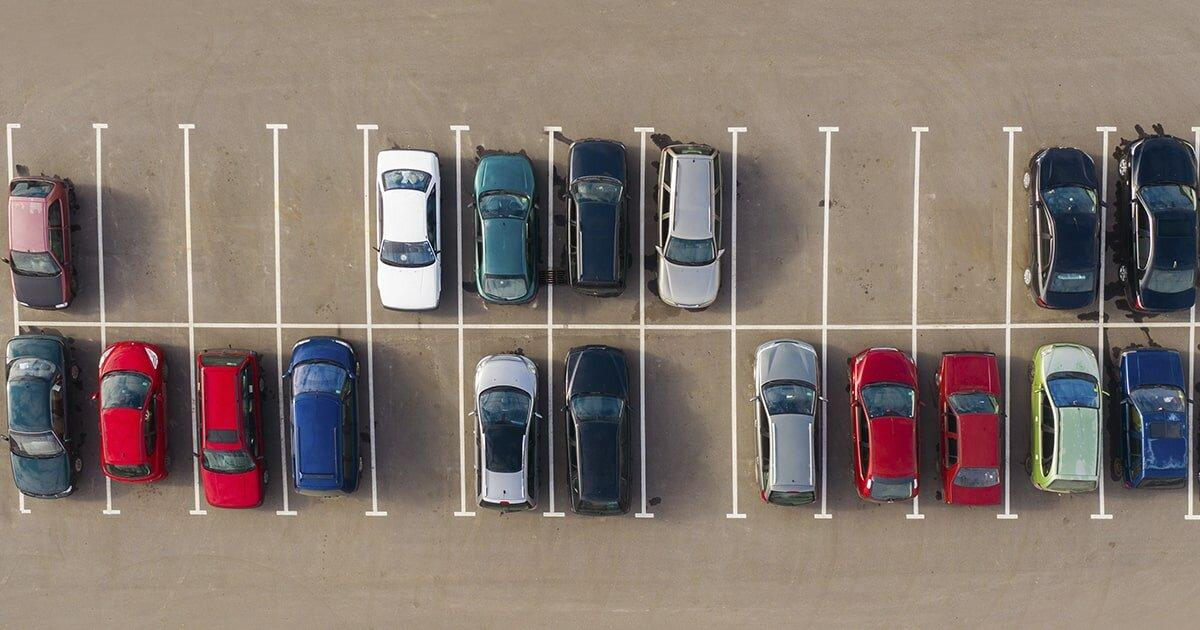occupied: (1008, 130, 1106, 325), (1101, 130, 1198, 325), (365, 127, 460, 326), (9, 127, 103, 324), (550, 129, 643, 326), (642, 130, 735, 326), (1008, 325, 1103, 516), (458, 129, 550, 326), (279, 326, 375, 514), (191, 325, 286, 513), (1100, 325, 1193, 517), (550, 327, 644, 515), (915, 326, 1008, 516), (103, 325, 197, 512), (460, 326, 553, 514), (17, 324, 110, 512), (824, 327, 916, 516), (733, 327, 824, 516)
vacant: (915, 130, 1012, 326), (733, 130, 829, 327), (825, 130, 919, 327), (276, 127, 369, 326), (99, 126, 191, 325), (187, 126, 278, 326), (369, 327, 464, 514), (643, 326, 736, 516)
